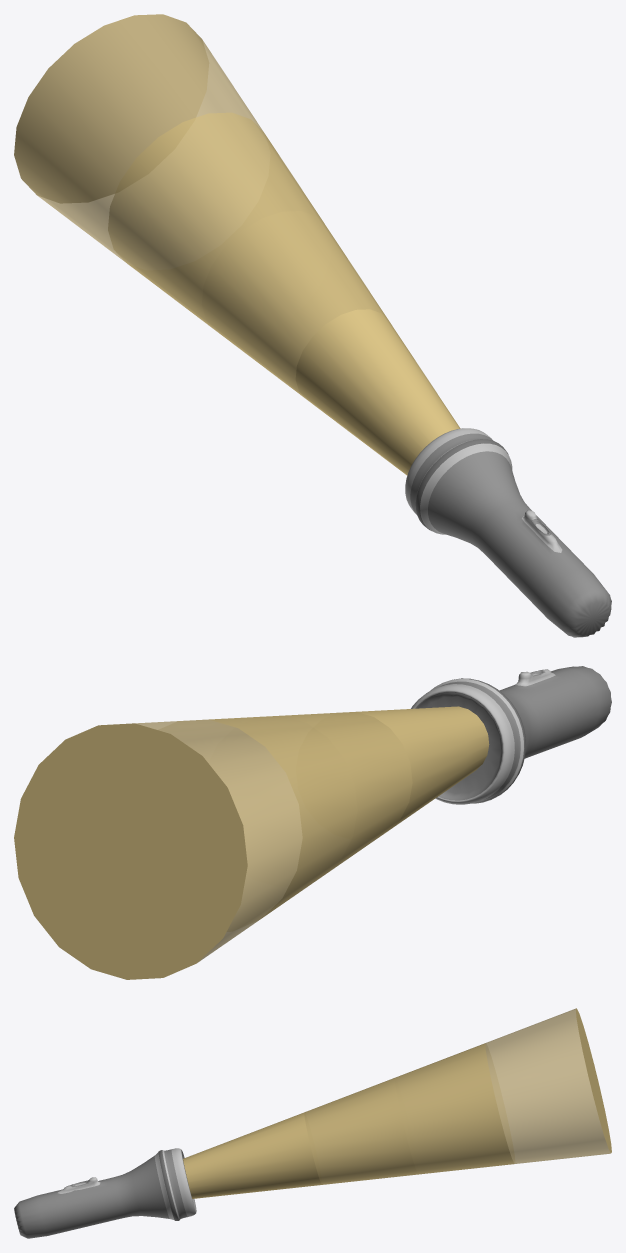
File: FlashlightTransp.fbx
3 views of the same model, one above another, from view 1: azimuth 30°, elevation 25°; view 2: azimuth 150°, elevation 25°; view 3: azimuth 270°, elevation 25° (orthographic). The views are drawn at different scales.
Parts seen in each view (by area): view 1: pCone1, pCylinder1; view 2: pCone1, pCylinder1; view 3: pCone1, pCylinder1.
Part boxes in pixels (x1=…): pCone1: x1=14, y1=14, x2=460, y2=475; pCylinder1: x1=405, y1=428, x2=611, y2=637; pCone1: x1=14, y1=706, x2=489, y2=979; pCylinder1: x1=411, y1=666, x2=611, y2=804; pCone1: x1=183, y1=1008, x2=611, y2=1198; pCylinder1: x1=14, y1=1148, x2=196, y2=1238.
Size of the model in its own units: 129 by 200 by 517.
